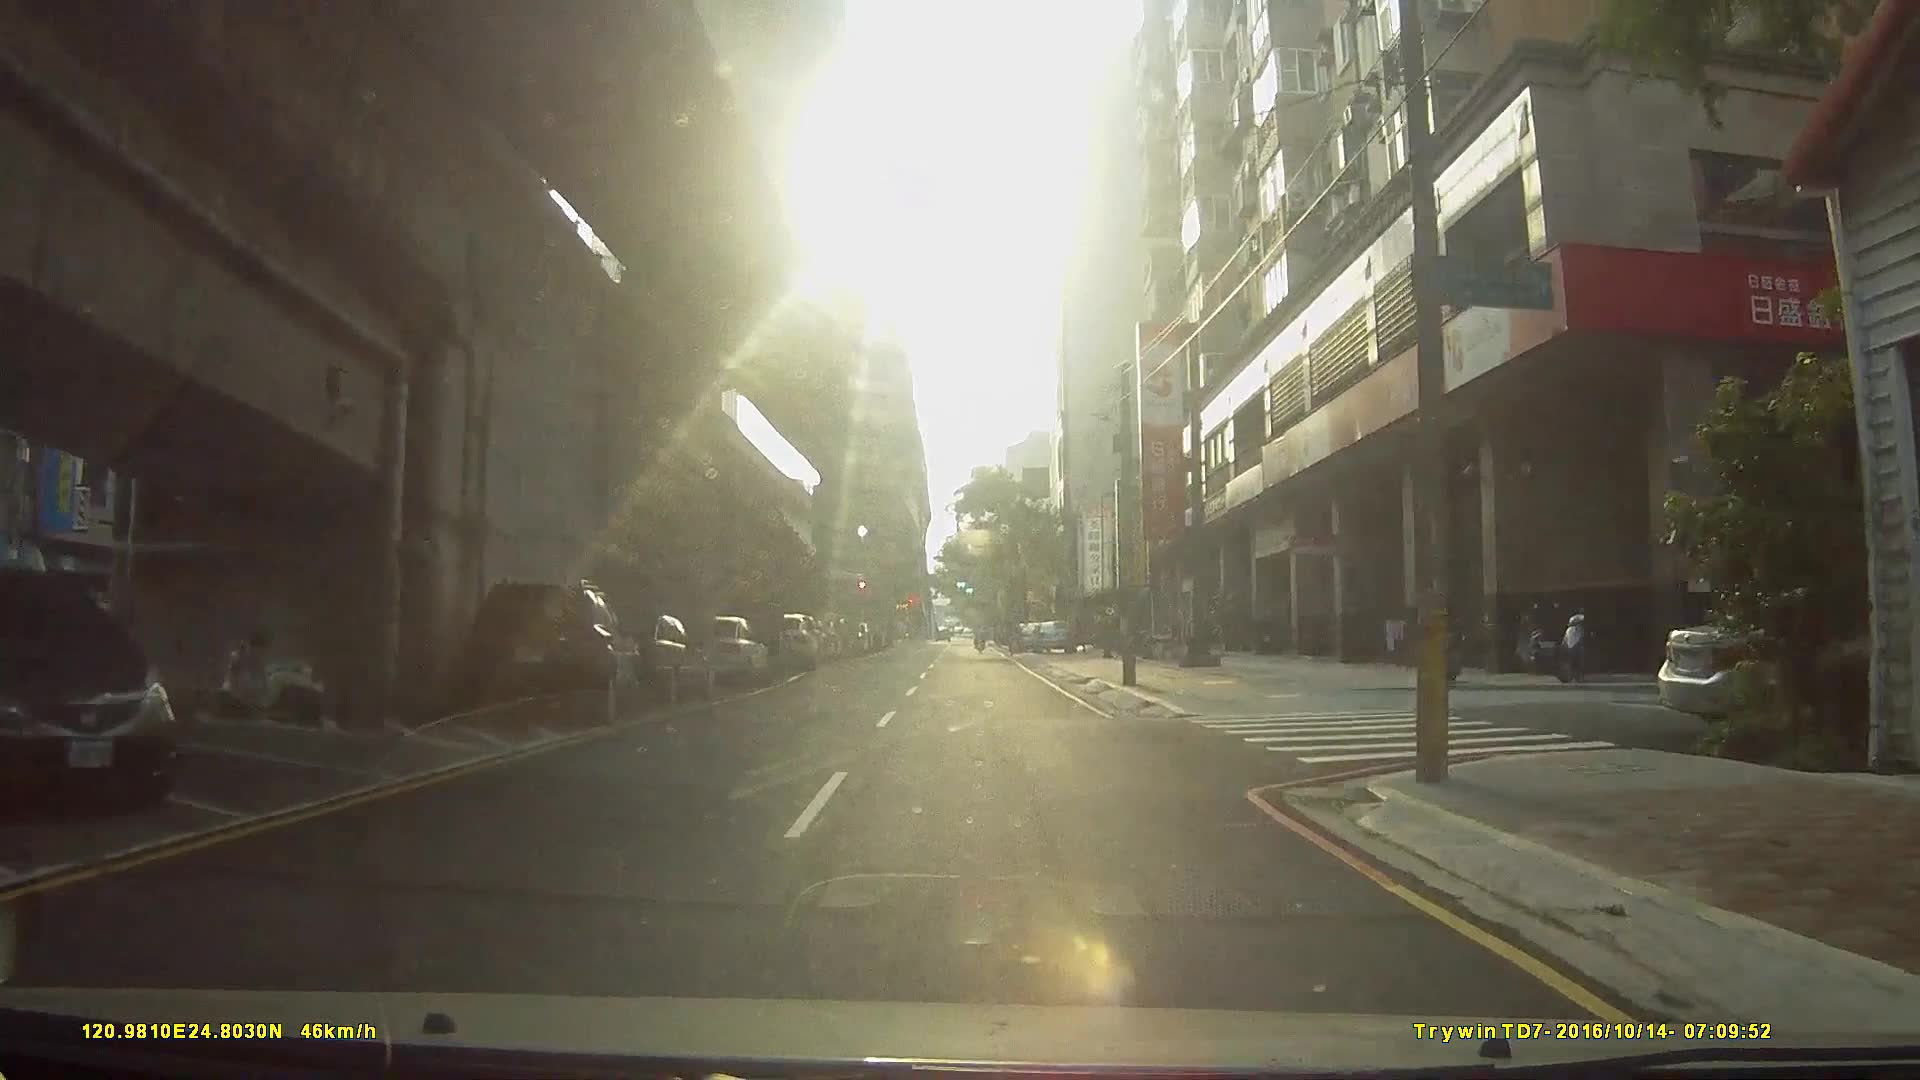vehicle: (0, 570, 177, 814), (460, 579, 642, 727), (564, 612, 708, 709), (680, 613, 767, 691), (659, 620, 794, 670), (1029, 620, 1076, 655)
